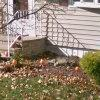stairs: (0, 33, 54, 72)
